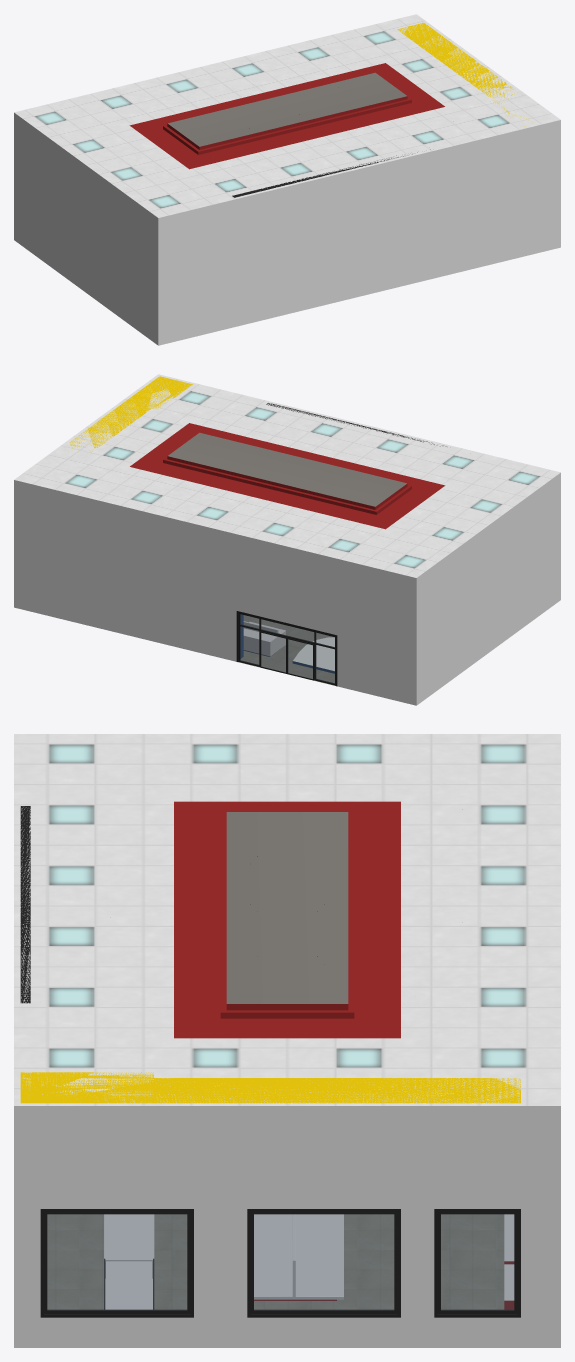
The model's file is Escenario 3 Elektra.fbx.
3 renders of one model, top to bottom at view 1: azimuth 30°, elevation 25°; view 2: azimuth 150°, elevation 25°; view 3: azimuth 270°, elevation 25°, orthographic. The views are drawn at different scales.
Parts seen in each view (by area): view 1: E3; view 2: E3, Vitrinas; view 3: E3, Vitrinas.
Boxes of the visible parts, x1,y1,x2,y2 form: E3: [14, 14, 560, 345]; E3: [14, 374, 560, 705]; Vitrinas: [243, 621, 285, 656]; E3: [14, 734, 560, 1347]; Vitrinas: [104, 1214, 514, 1309].
Bounding box in the file's own units: 2640 × 840 × 1640.
